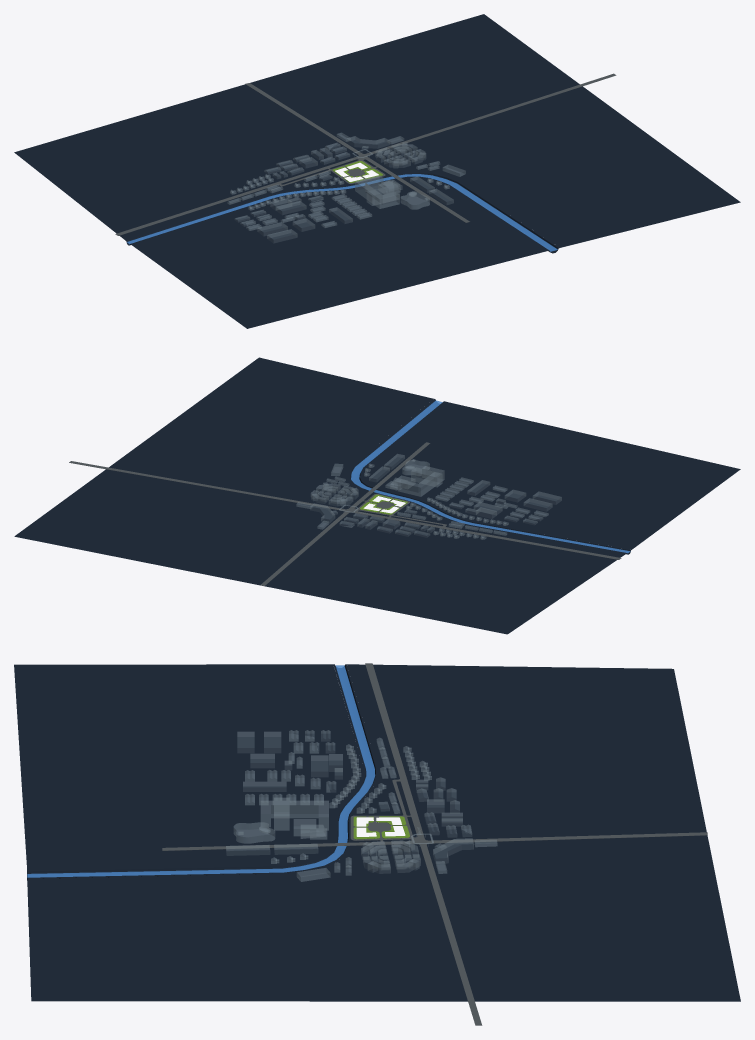
Rendered from Ground.obj.
The picture shows the model from 3 angles, top to bottom: view 1: azimuth 30°, elevation 25°; view 2: azimuth 150°, elevation 25°; view 3: azimuth 270°, elevation 25°; orthographic projection. The views are drawn at different scales.
Parts seen in each view (by area): view 1: Line05, Line02, River, Line03, Line08, C_Ext01; view 2: Line05, Line02, River, Line03, Line08, C_Ext01, Box05; view 3: Line05, Line02, River, Line03, Line08, C_Ext01, Line04.
Part boxes in pixels (left/top/right/bottom): Line05: left=14, top=14, right=740, bottom=328; Line02: left=115, top=73, right=616, bottom=235; River: left=126, top=172, right=559, bottom=253; Line03: left=127, top=174, right=557, bottom=251; Line08: left=376, top=143, right=425, bottom=167; C_Ext01: left=355, top=175, right=399, bottom=208; Line05: left=14, top=357, right=740, bottom=634; Line02: left=69, top=442, right=621, bottom=586; River: left=348, top=399, right=630, bottom=554; Line03: left=351, top=400, right=630, bottom=553; Line08: left=310, top=483, right=358, bottom=505; C_Ext01: left=397, top=466, right=444, bottom=496; Box05: left=411, top=467, right=442, bottom=487; Line05: left=14, top=664, right=740, bottom=1001; Line02: left=162, top=663, right=707, bottom=1025; River: left=27, top=664, right=377, bottom=880; Line03: left=27, top=665, right=375, bottom=877; Line08: left=361, top=840, right=420, bottom=873; C_Ext01: left=260, top=800, right=328, bottom=830; Line04: left=233, top=822, right=275, bottom=843.
Size of the model in its own units: 97629 by 2510 by 82766.
